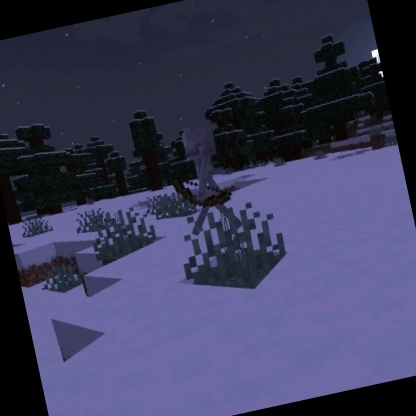skeleton: (159, 118, 244, 241)
